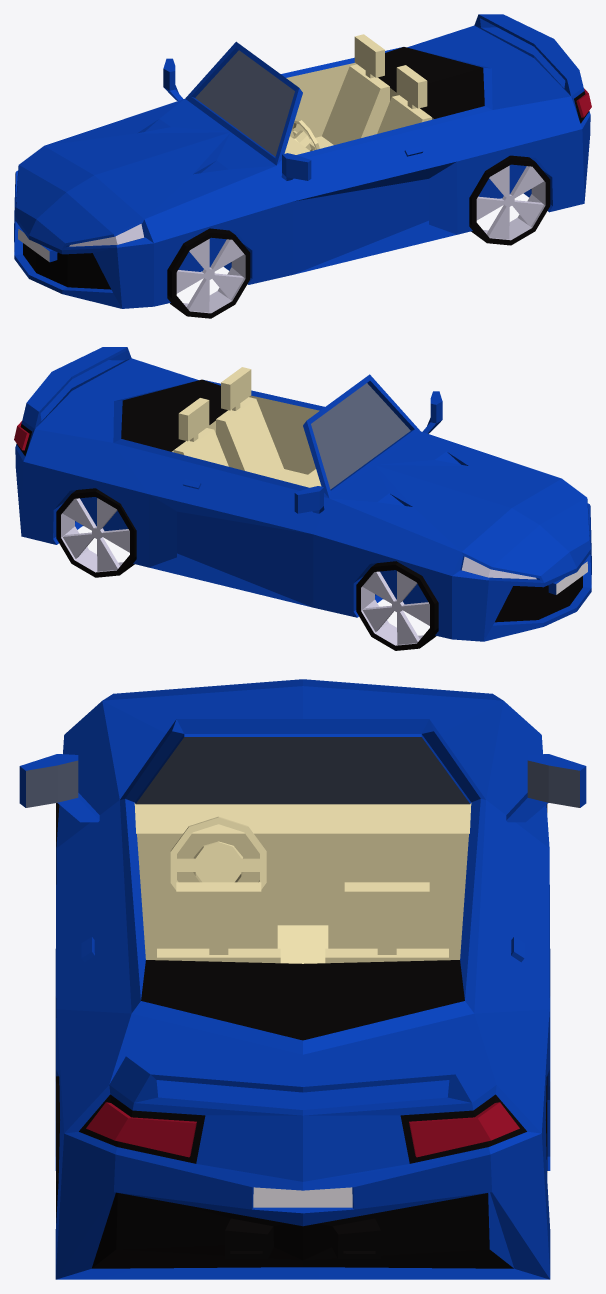
The model's file is roadster.glb.
3 renders of one model, top to bottom at view 1: azimuth 30°, elevation 25°; view 2: azimuth 150°, elevation 25°; view 3: azimuth 270°, elevation 25°, orthographic. The views are drawn at different scales.
Visible parts, largest first — view 1: chassis, flwheel, blwheel; view 2: chassis, frwheel, brwheel; view 3: chassis.
Boxes of the visible parts, box(x1,y1,x2,y2) form: chassis: box(14, 14, 591, 308); flwheel: box(167, 228, 250, 318); blwheel: box(469, 155, 550, 245); chassis: box(14, 347, 591, 641); frwheel: box(356, 561, 438, 650); brwheel: box(56, 488, 136, 577); chassis: box(19, 679, 586, 1279).
Size of the model in its own units: 5.73 by 1.85 by 2.63.
